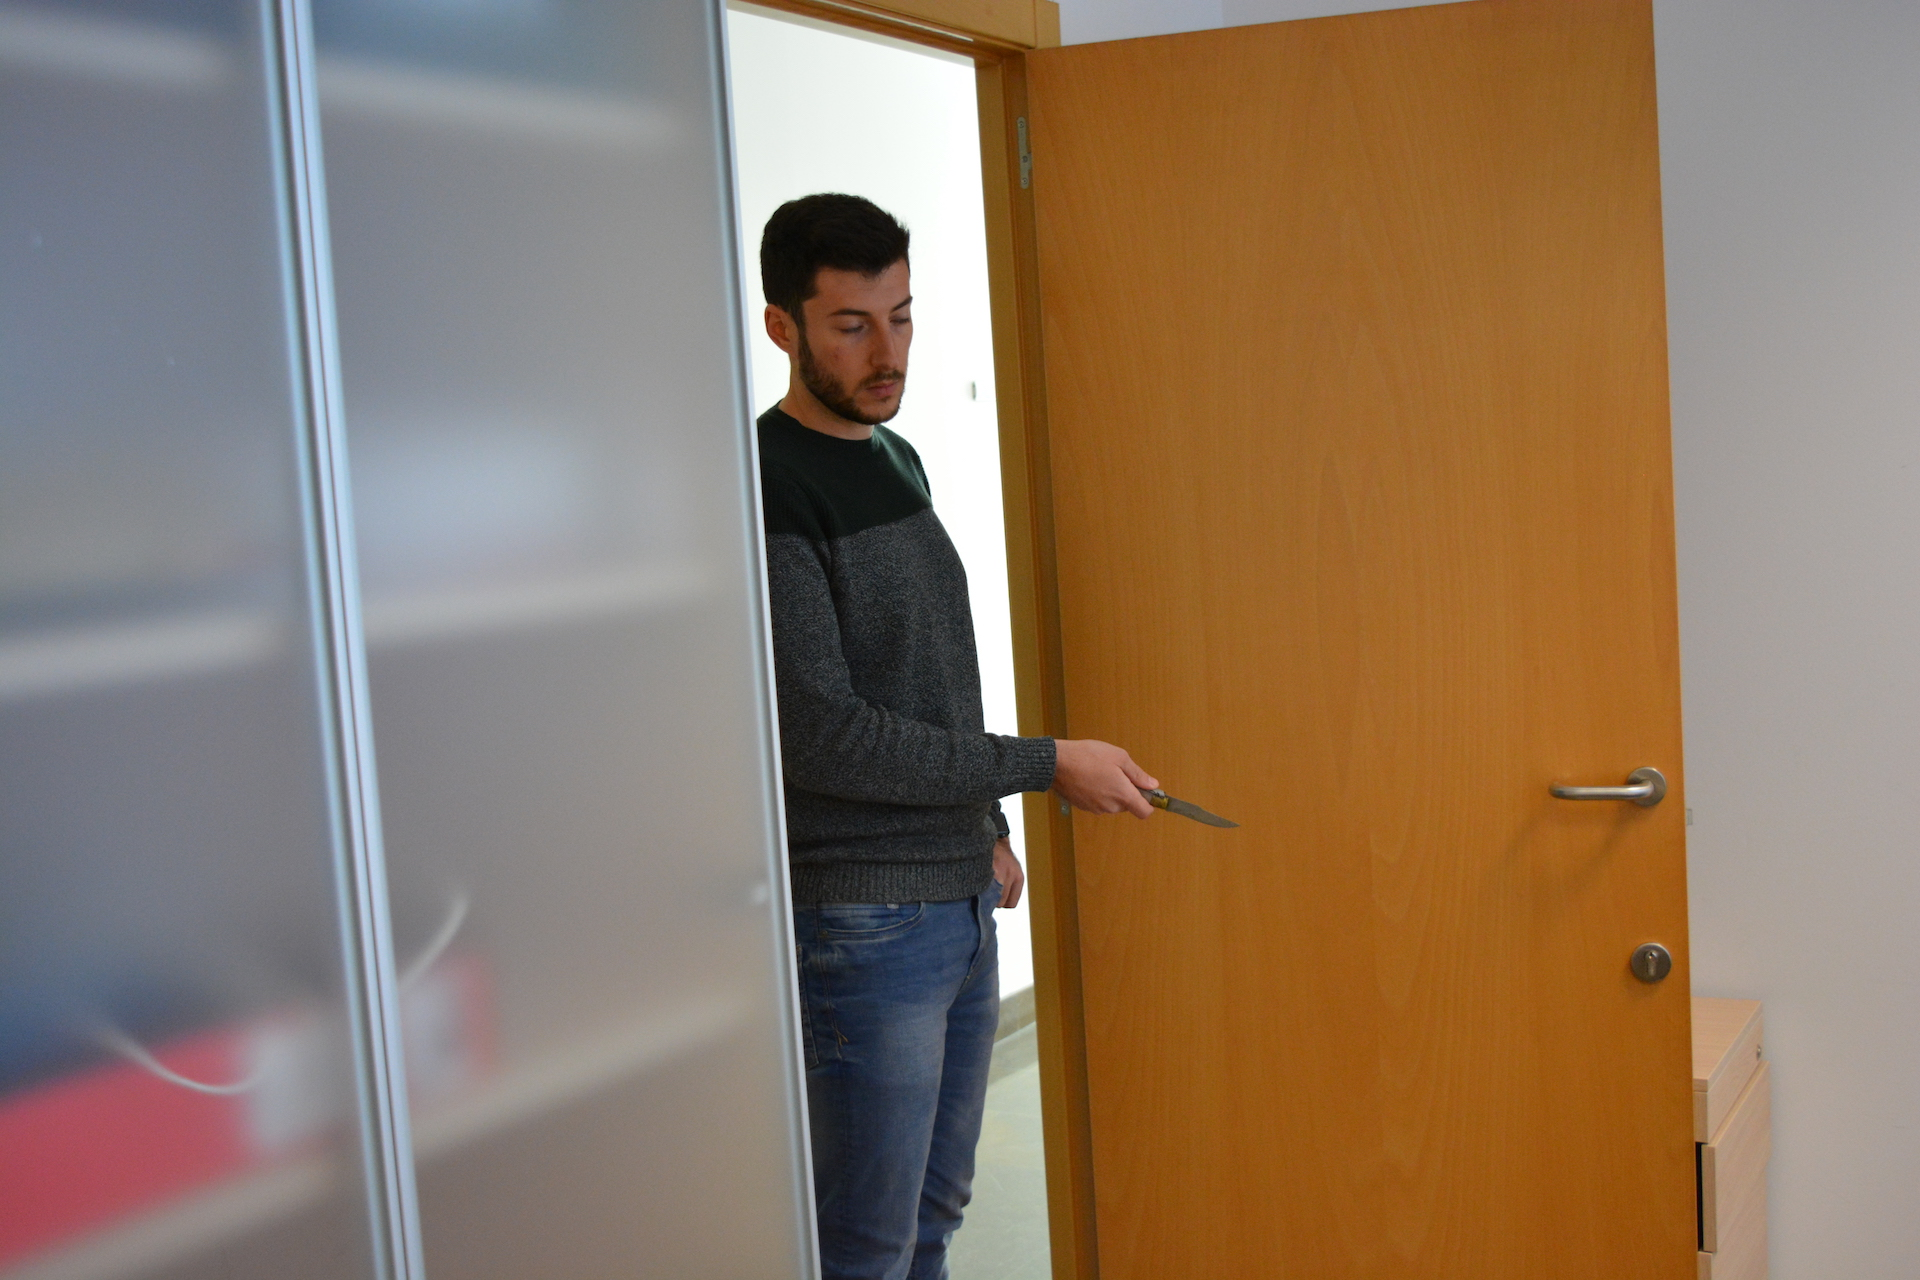knife: (1114, 769, 1253, 839)
